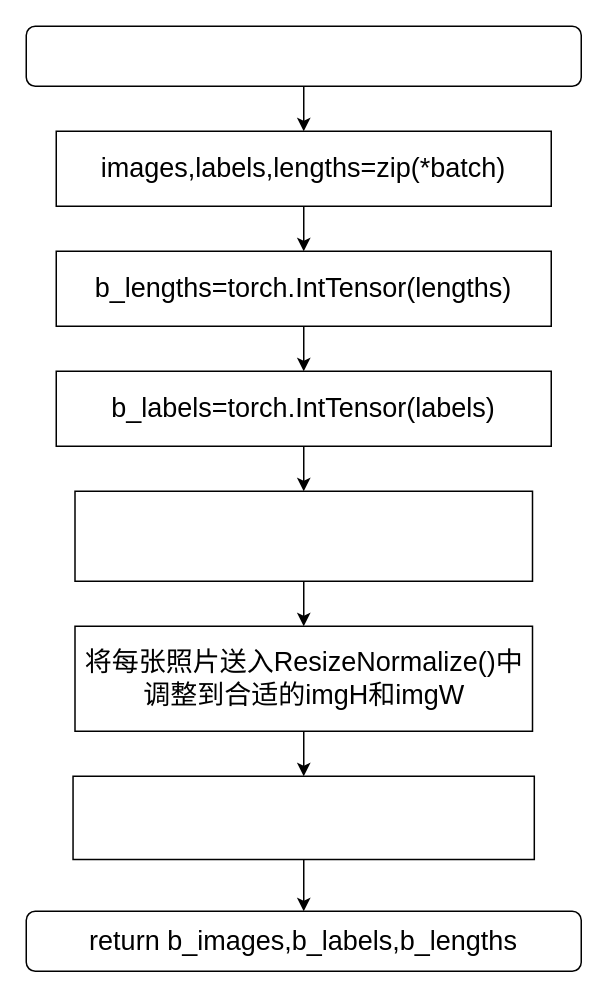
Image size: 608x998. Some labels were removed from this diagram. Each missing label, with the centre of its shape:
"AlignCollate的__call__(self,batch)" goes at (x=303, y=55).
"b_imags=torch.stack(images)" goes at (x=303, y=817).
"根据所有的图片宽高比选择合适的imgH和imgW" goes at (x=303, y=535).
